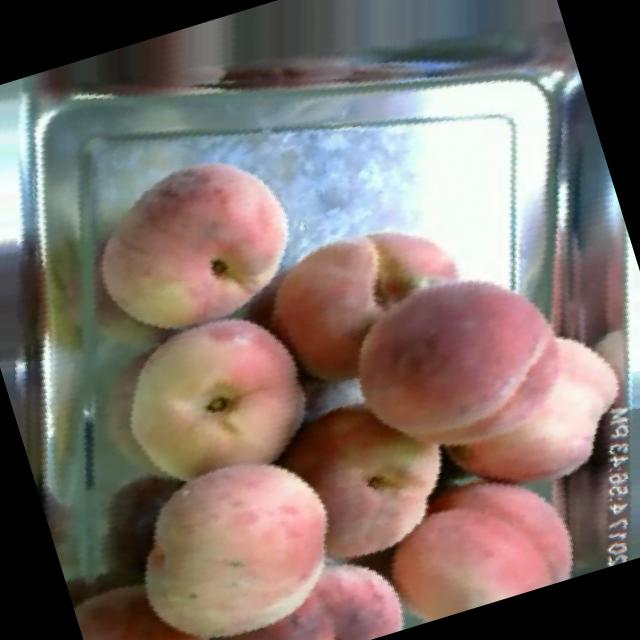Fruit: (222, 162, 568, 498), (45, 106, 338, 381), (73, 270, 354, 535), (84, 413, 388, 640), (333, 420, 604, 636)
